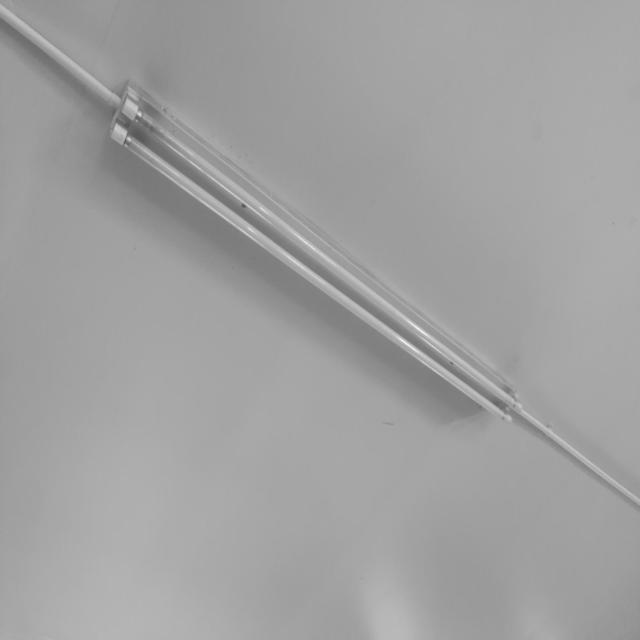light: (107, 79, 527, 428)
